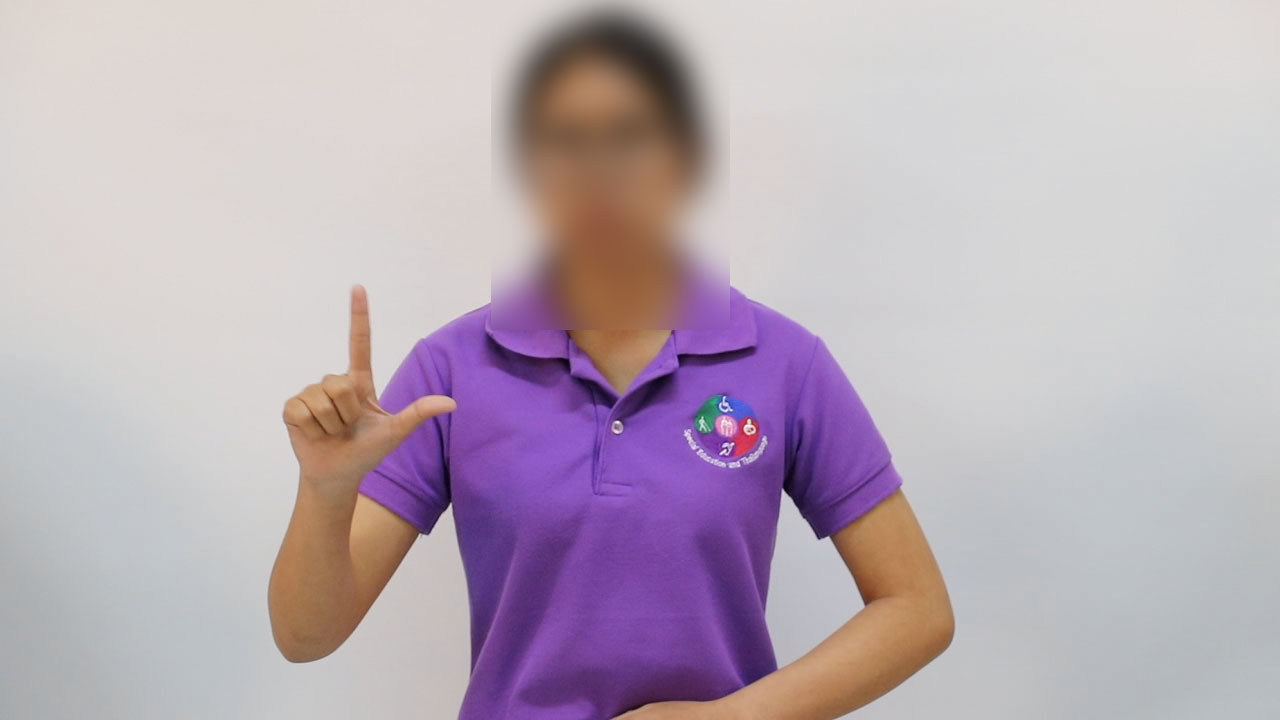lor: (267, 277, 495, 511)
